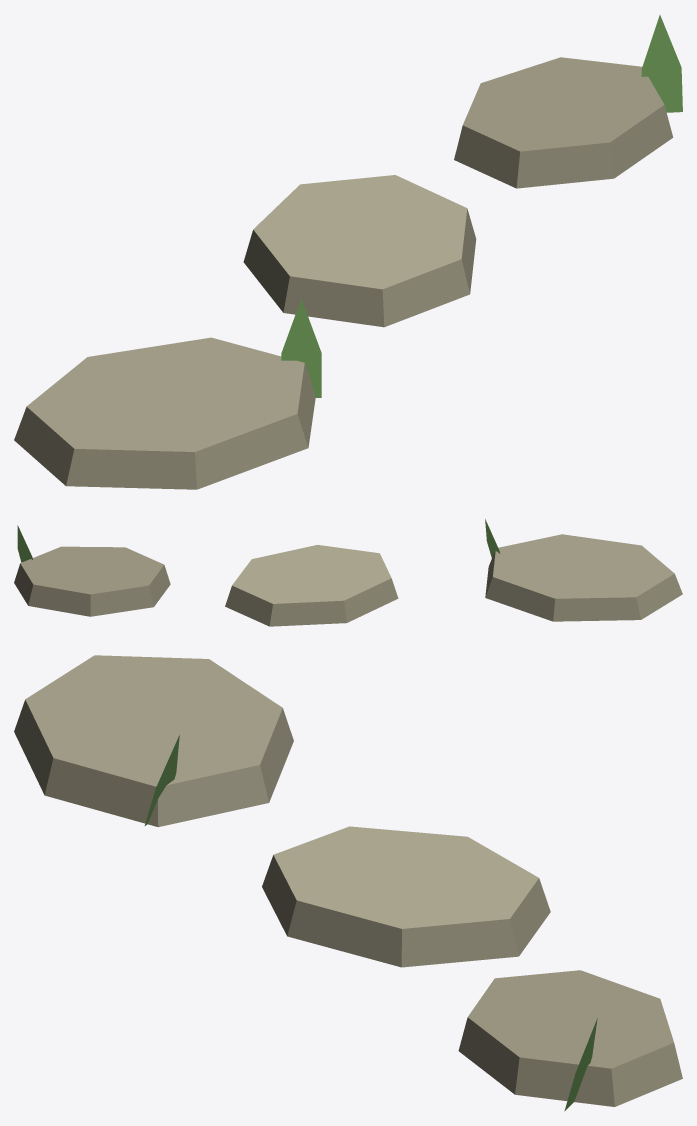
Rendered from gc_pathstones_a.glb.
3 views of the same model, one above another, from view 1: azimuth 30°, elevation 25°; view 2: azimuth 150°, elevation 25°; view 3: azimuth 270°, elevation 25° (orthographic). The views are drawn at different scales.
Parts seen in each view (by area): view 1: body, body_nh; view 2: body, body_nh; view 3: body, body_nh.
Part boxes in pixels (x1,y1,x2,y2): body: (14,57,673,489); body_nh: (281,15,682,397); body: (14,534,682,626); body_nh: (17,519,500,562); body: (14,655,682,1106); body_nh: (144,735,597,1111).
Bounding box in the file's own units: 1.22 × 0.12 × 0.8005.
